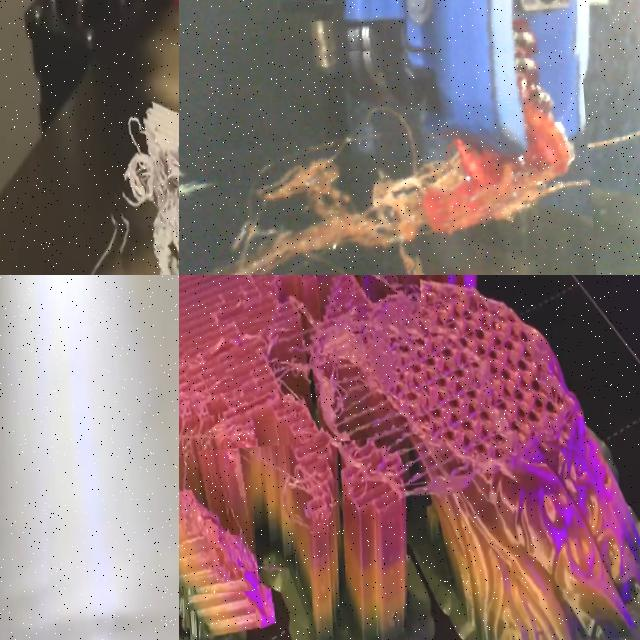spaghetti: (202, 23, 565, 275), (201, 46, 589, 275), (179, 275, 430, 452), (94, 93, 179, 275), (179, 438, 258, 600), (282, 464, 330, 534)
